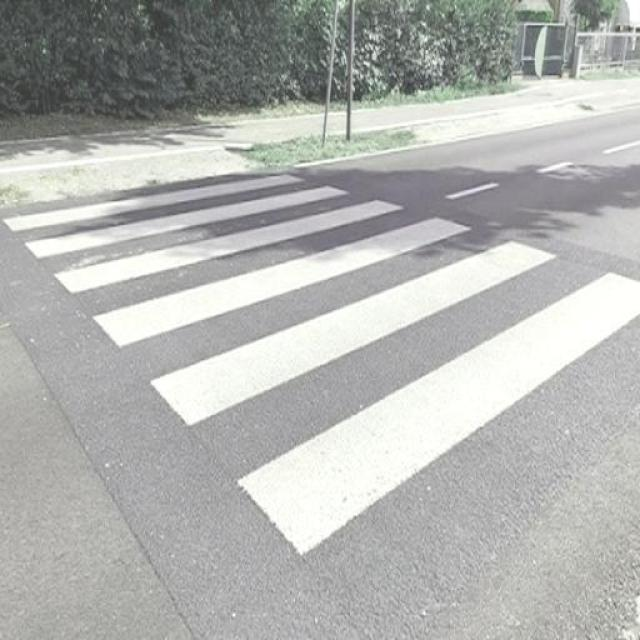crosswalk: (2, 167, 640, 559)
